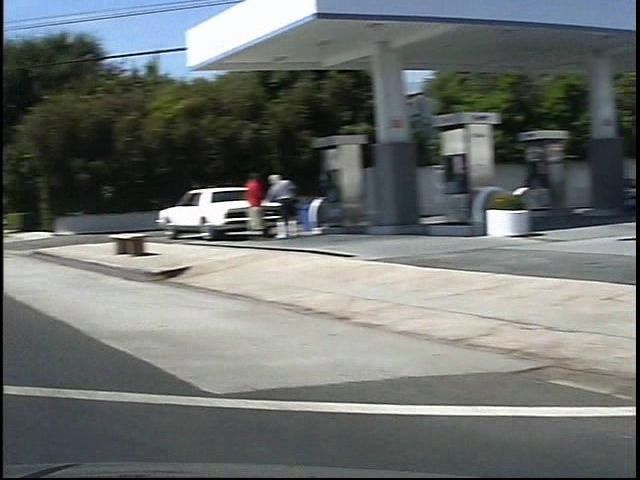person: (244, 170, 283, 243), (220, 168, 248, 243)
